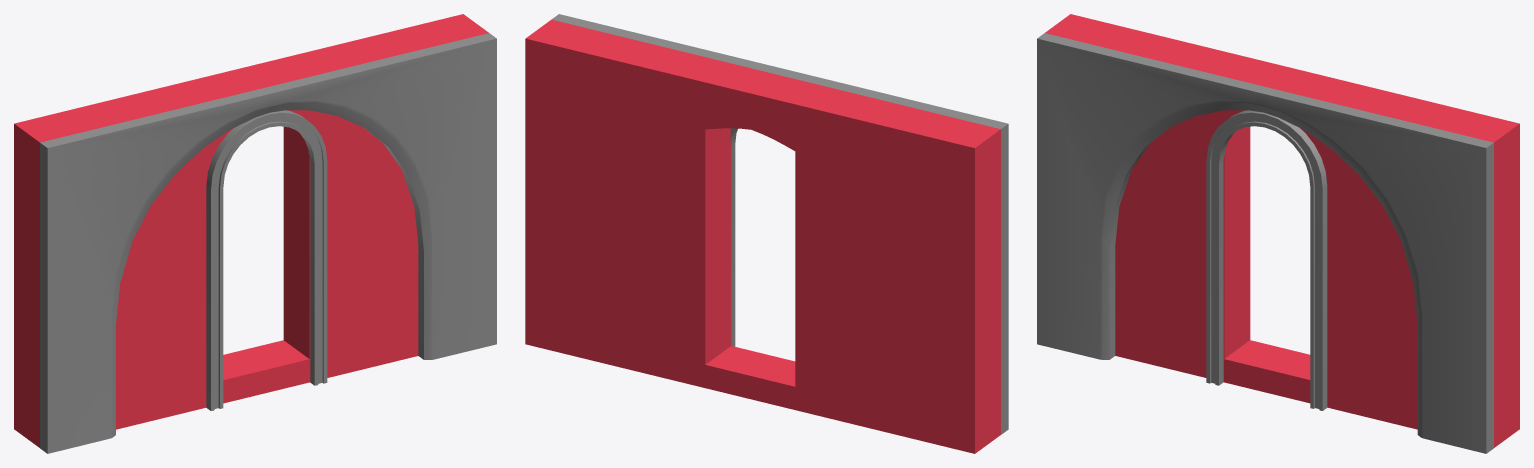
Rendered from doorway_Large_D.fbx.
The picture shows the model from 3 angles, left to right: view 1: azimuth 30°, elevation 25°; view 2: azimuth 150°, elevation 25°; view 3: azimuth 330°, elevation 25°; orthographic projection.
Parts seen in each view (by area): view 1: doorway_Large_D; view 2: doorway_Large_D; view 3: doorway_Large_D.
Boxes of the visible parts, left/top/right/bottom form: doorway_Large_D: left=14, top=14, right=496, bottom=453; doorway_Large_D: left=525, top=14, right=1008, bottom=453; doorway_Large_D: left=1037, top=14, right=1519, bottom=453.
Bounding box in the file's own units: 999 × 650 × 129.
